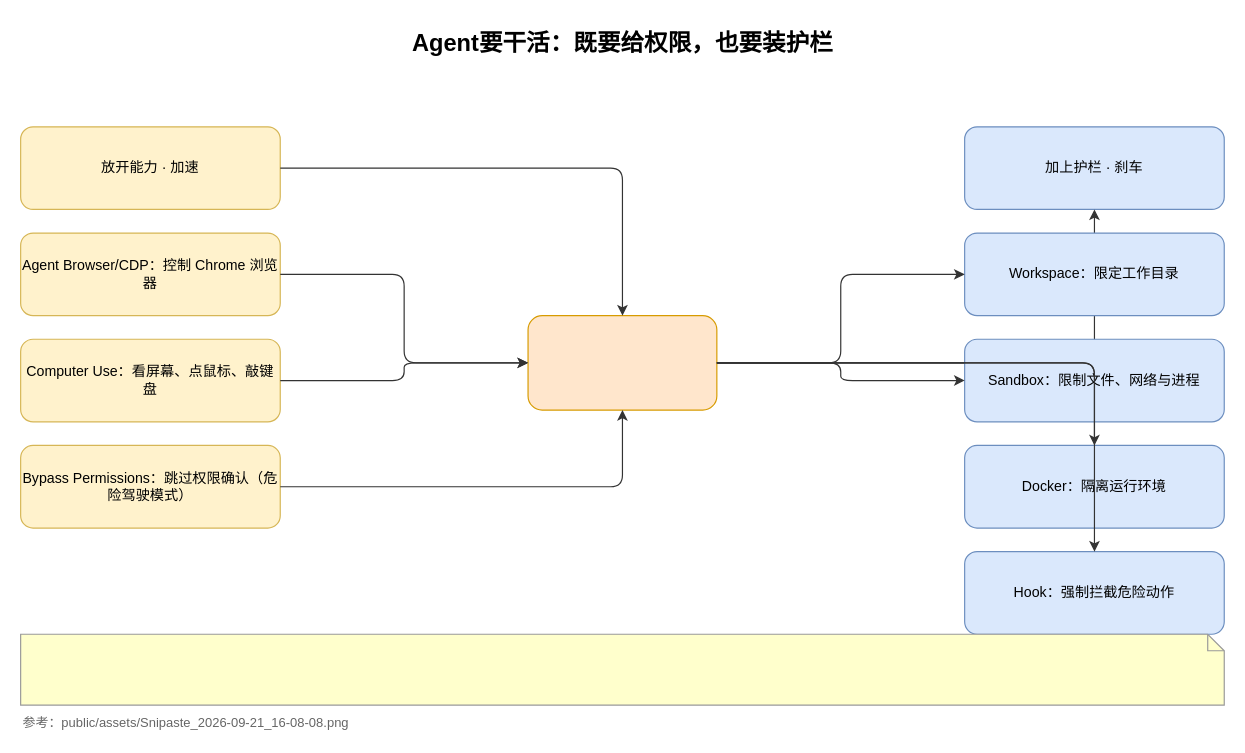
The diagram is 1245 pixels wide and 753 high, and some of its shapes have lost their labels. Here are the shapes that lost their labels. From the top down, the centre of each, then its label:
At point (622, 362): "能力 ↔ 护栏".
At point (621, 669): "默认最小权限，按需逐级放开；危险模式只在隔离环境中短时使用".
